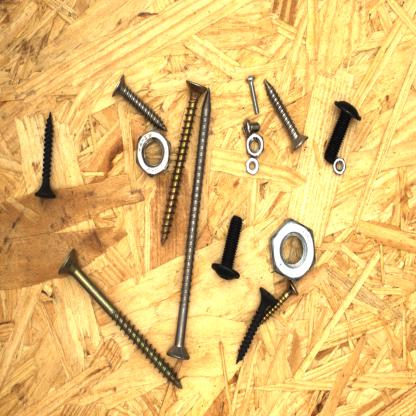screw: (56, 246, 188, 394), (164, 84, 213, 364), (157, 76, 211, 249), (261, 76, 311, 156), (232, 284, 279, 368), (110, 72, 171, 134), (320, 96, 364, 168), (209, 210, 244, 284), (32, 109, 57, 203), (258, 276, 302, 329), (244, 72, 261, 117), (240, 116, 264, 140)
